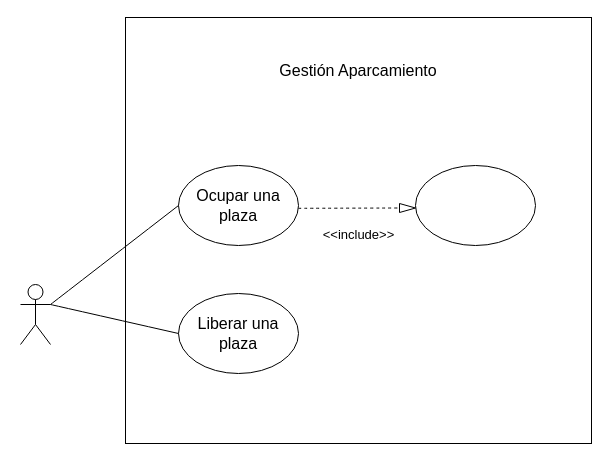
Image size: 609x461. Some labels were removed from this diagram. Each missing label, with the box of its shape:
Actor: (20, 284, 50, 344)
Buscar vehículos / profesor: (414, 164, 536, 246)
